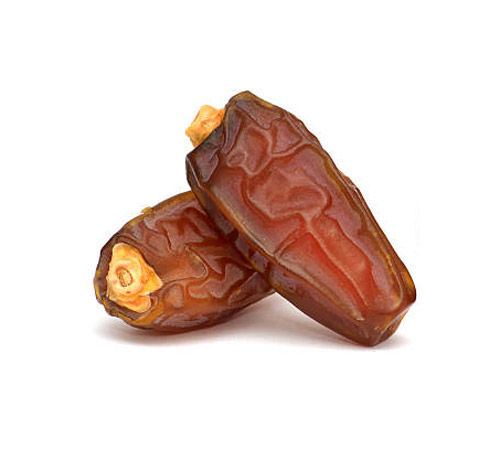hurmaa: (171, 68, 422, 353)
